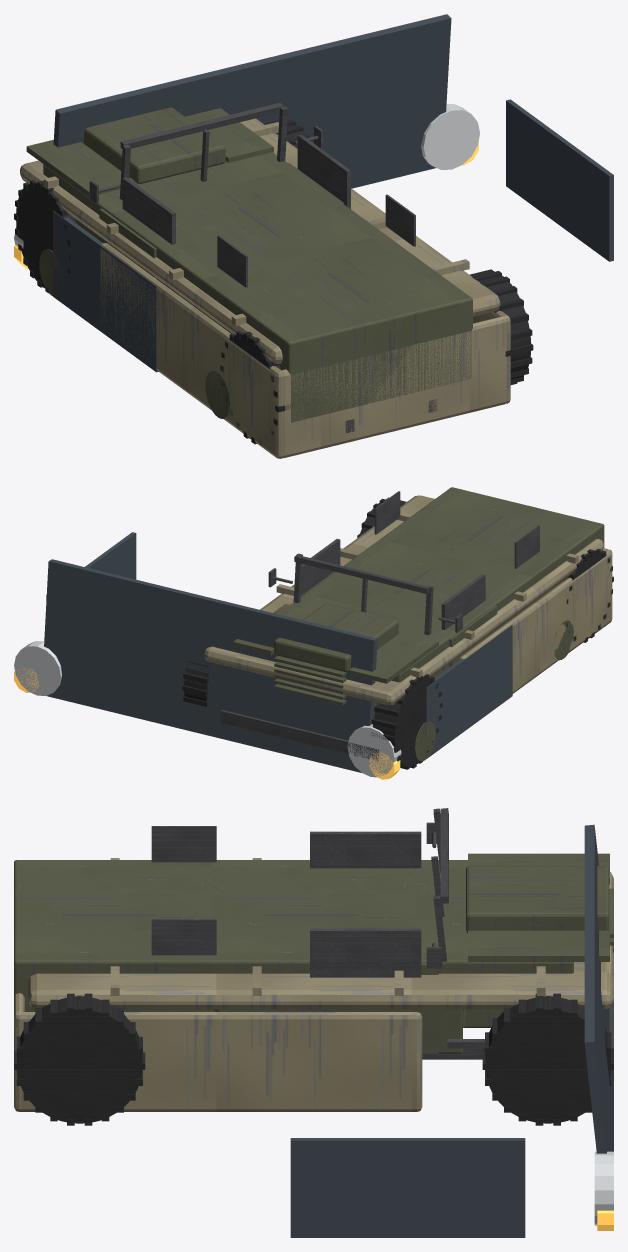
File: landrover.glb
3 views of the same model, one above another, from view 1: azimuth 30°, elevation 25°; view 2: azimuth 150°, elevation 25°; view 3: azimuth 270°, elevation 25° (orthographic). The views are drawn at different scales.
Parts seen in each view (by area): view 1: landrover; view 2: landrover; view 3: landrover.
Part boxes in pixels (x1=…): landrover: x1=14, y1=14, x2=613, y2=458; landrover: x1=14, y1=487, x2=613, y2=779; landrover: x1=14, y1=808, x2=613, y2=1237.
Bounding box in the file's own units: 3.57 × 1.28 × 3.57.
7 materials, 4 textured.
